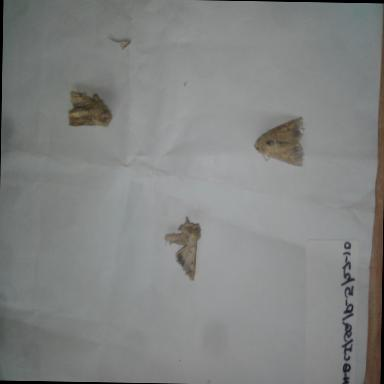abw: (250, 112, 308, 170), (161, 214, 203, 284), (64, 84, 116, 132)
